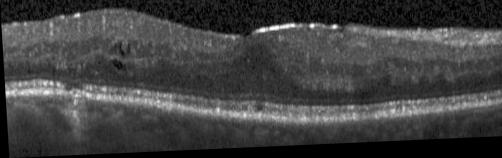intraretinal_cyst: (109, 40, 124, 57), (109, 58, 122, 71), (125, 44, 130, 54), (97, 61, 100, 66)
